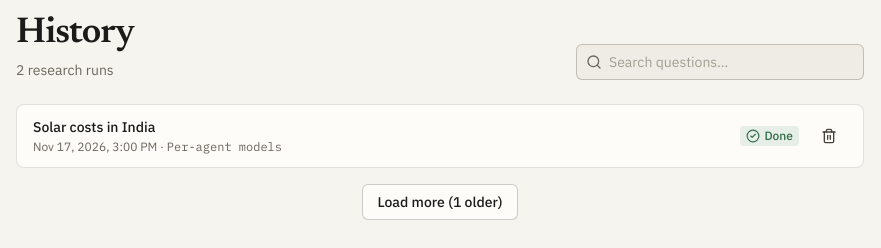
Scenario: HistoryPage › loads older runs
Click the button "Load more (1 older)" at (440, 202), box [362,184,518,220]
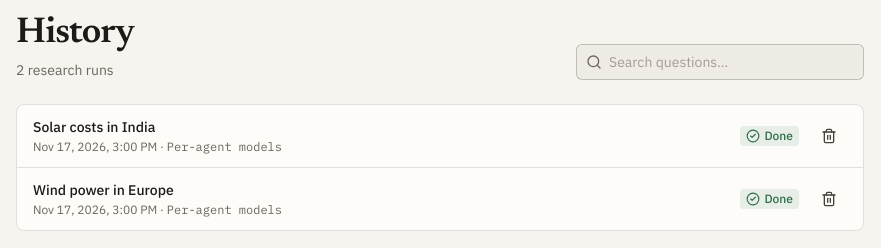
Expected: the text "Wind power in Europe" is shown, [33,181,174,199]
